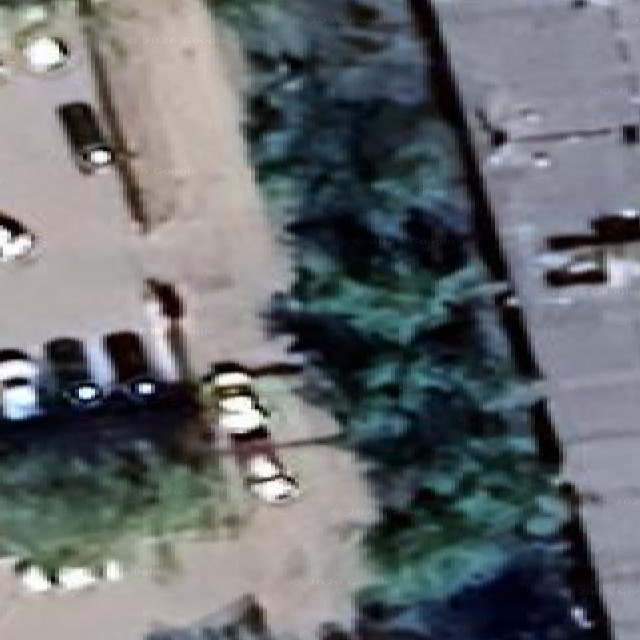car: (204, 363, 298, 503), (540, 220, 639, 287), (228, 424, 298, 503), (144, 279, 190, 382), (203, 362, 267, 435), (407, 203, 468, 271), (493, 283, 537, 376), (44, 336, 100, 407), (546, 207, 639, 249), (56, 101, 111, 172), (103, 332, 158, 399), (12, 560, 120, 592), (203, 362, 264, 412), (244, 453, 298, 503), (0, 348, 37, 419), (544, 248, 607, 287), (13, 563, 96, 592), (203, 364, 253, 409), (0, 0, 54, 40), (216, 396, 263, 436), (495, 284, 523, 347), (0, 212, 35, 260), (591, 208, 639, 243), (144, 278, 183, 320), (22, 35, 67, 71), (207, 360, 252, 386), (13, 562, 51, 592), (544, 232, 600, 251), (609, 253, 639, 287), (55, 567, 96, 590), (495, 284, 519, 307), (96, 559, 121, 580), (0, 55, 11, 85)
